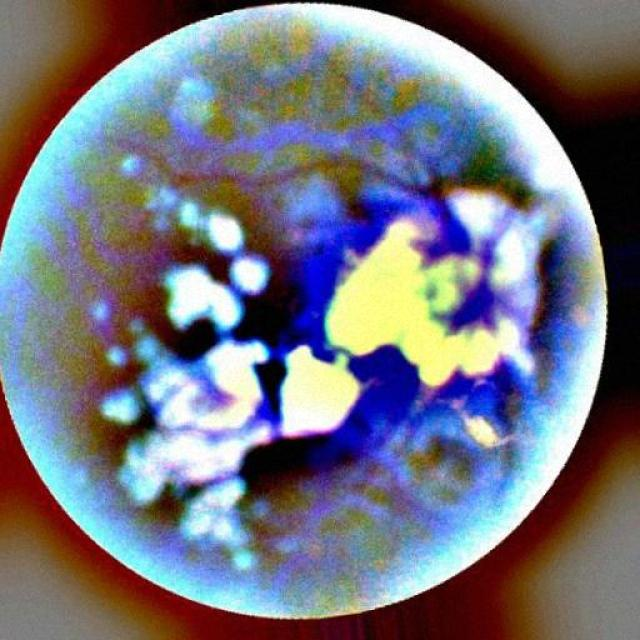Nerves: (79, 131, 463, 236)
